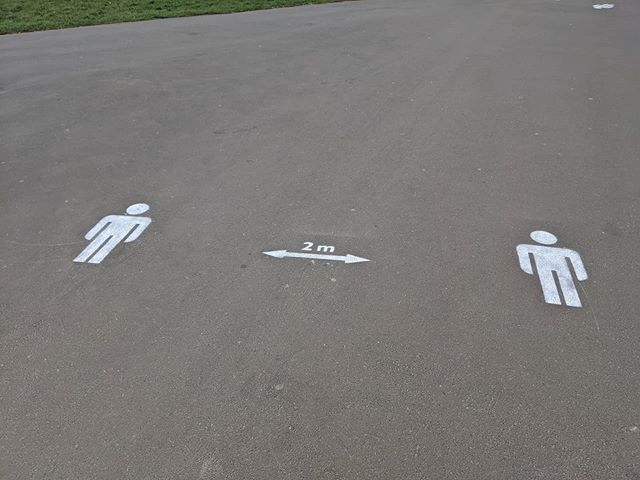street: (6, 1, 640, 480)
